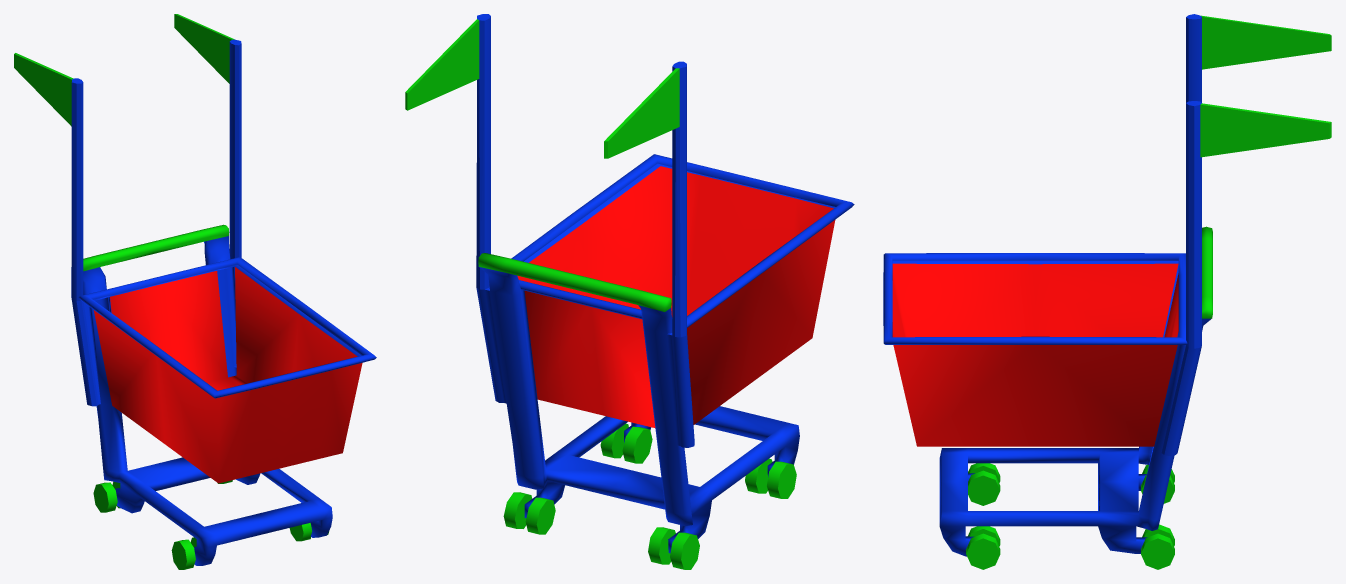
The model's file is Unoccupied Cart.glb.
The picture shows the model from 3 angles, left to right: view 1: azimuth 30°, elevation 25°; view 2: azimuth 150°, elevation 25°; view 3: azimuth 270°, elevation 25°; orthographic projection. The views are drawn at different scales.
Visible parts, largest first — view 1: Cart; view 2: Cart; view 3: Cart.
Boxes of the visible parts, bbox=[...] form: Cart: bbox=[14, 14, 376, 569]; Cart: bbox=[405, 14, 854, 569]; Cart: bbox=[883, 14, 1331, 569].
Bounding box in the file's own units: 0.7588 × 1.81 × 1.56.
